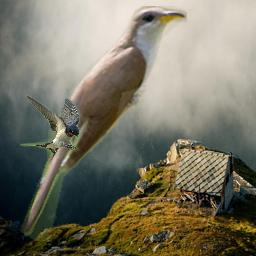Cuckoo: (18, 6, 187, 241)
Swallow: (20, 94, 80, 157)
